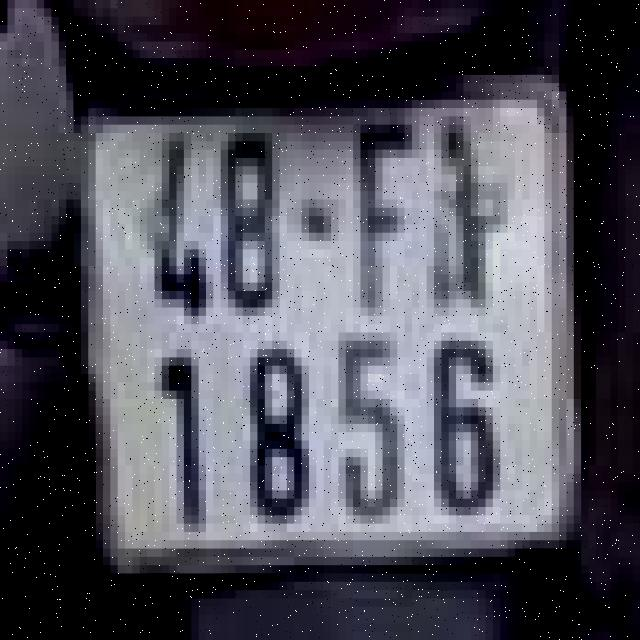1: (151, 345, 217, 544)
4: (143, 125, 217, 324)
5: (327, 308, 416, 540)
6: (427, 328, 515, 520)
8: (232, 328, 320, 528), (213, 116, 294, 324)
A: (431, 104, 512, 320)
F: (342, 108, 423, 324)
